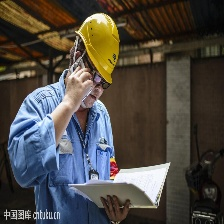helmet: (78, 15, 120, 85)
no-vest: (39, 89, 110, 206)
person: (6, 10, 138, 224)
